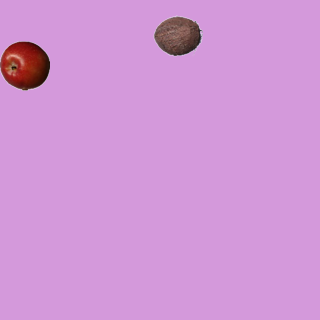Apple Braeburn: (0, 40, 49, 90)
Cocos: (152, 10, 202, 60)
